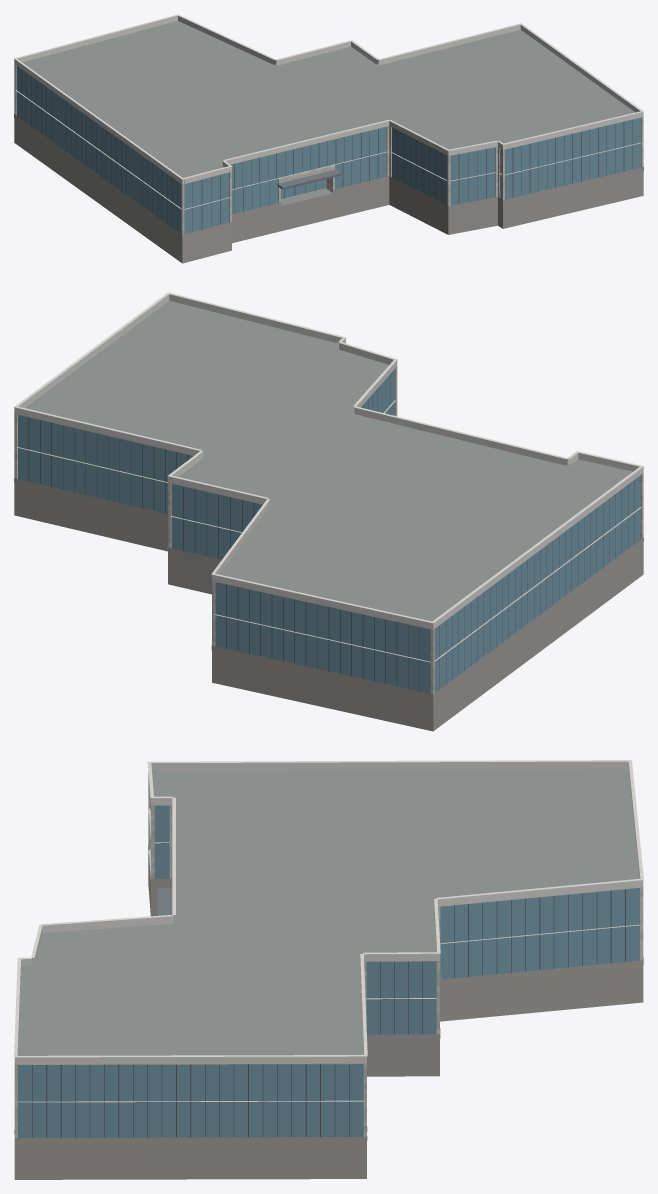
The picture shows the model from 3 angles, top to bottom: view 1: azimuth 30°, elevation 25°; view 2: azimuth 150°, elevation 25°; view 3: azimuth 270°, elevation 25°; orthographic projection. The views are drawn at different scales.
Parts seen in each view (by area): view 1: cyberLibrary__roof, cyberLibrary__glass, cyberLibrary__base, cyberLibrary__parapet, cyberLibrary__frame, cyberLibrary__wall, cyberLibrary__trim, cyberLibrary__canopy; view 2: cyberLibrary__roof, cyberLibrary__glass, cyberLibrary__base, cyberLibrary__parapet, cyberLibrary__frame, cyberLibrary__trim, cyberLibrary__wall; view 3: cyberLibrary__roof, cyberLibrary__glass, cyberLibrary__base, cyberLibrary__parapet, cyberLibrary__trim, cyberLibrary__frame, cyberLibrary__wall.
Part boxes in pixels (left/top/right/bottom): cyberLibrary__roof: left=22, top=21, right=634, bottom=205; cyberLibrary__glass: left=16, top=66, right=640, bottom=233; cyberLibrary__base: left=14, top=114, right=643, bottom=263; cyberLibrary__parapet: left=14, top=15, right=643, bottom=184; cyberLibrary__frame: left=21, top=69, right=632, bottom=231; cyberLibrary__wall: left=14, top=64, right=643, bottom=237; cyberLibrary__trim: left=14, top=14, right=643, bottom=179; cyberLibrary__canopy: left=277, top=169, right=341, bottom=189; cyberLibrary__roof: left=25, top=301, right=632, bottom=621; cyberLibrary__glass: left=18, top=369, right=640, bottom=693; cyberLibrary__base: left=14, top=478, right=643, bottom=731; cyberLibrary__parapet: left=14, top=294, right=643, bottom=629; cyberLibrary__frame: left=28, top=374, right=634, bottom=690; cyberLibrary__trim: left=14, top=292, right=643, bottom=623; cyberLibrary__wall: left=14, top=366, right=643, bottom=698; cyberLibrary__roof: left=18, top=769, right=639, bottom=1055; cyberLibrary__glass: left=18, top=802, right=639, bottom=1137; cyberLibrary__base: left=14, top=845, right=643, bottom=1179; cyberLibrary__parapet: left=14, top=761, right=643, bottom=1064; cyberLibrary__trim: left=14, top=760, right=643, bottom=1058; cyberLibrary__frame: left=18, top=843, right=625, bottom=1137; cyberLibrary__wall: left=14, top=772, right=643, bottom=1137.
Size of the model in its own units: 72.43 by 13.95 by 64.86.
Materials: 9 (1 with a texture image).
